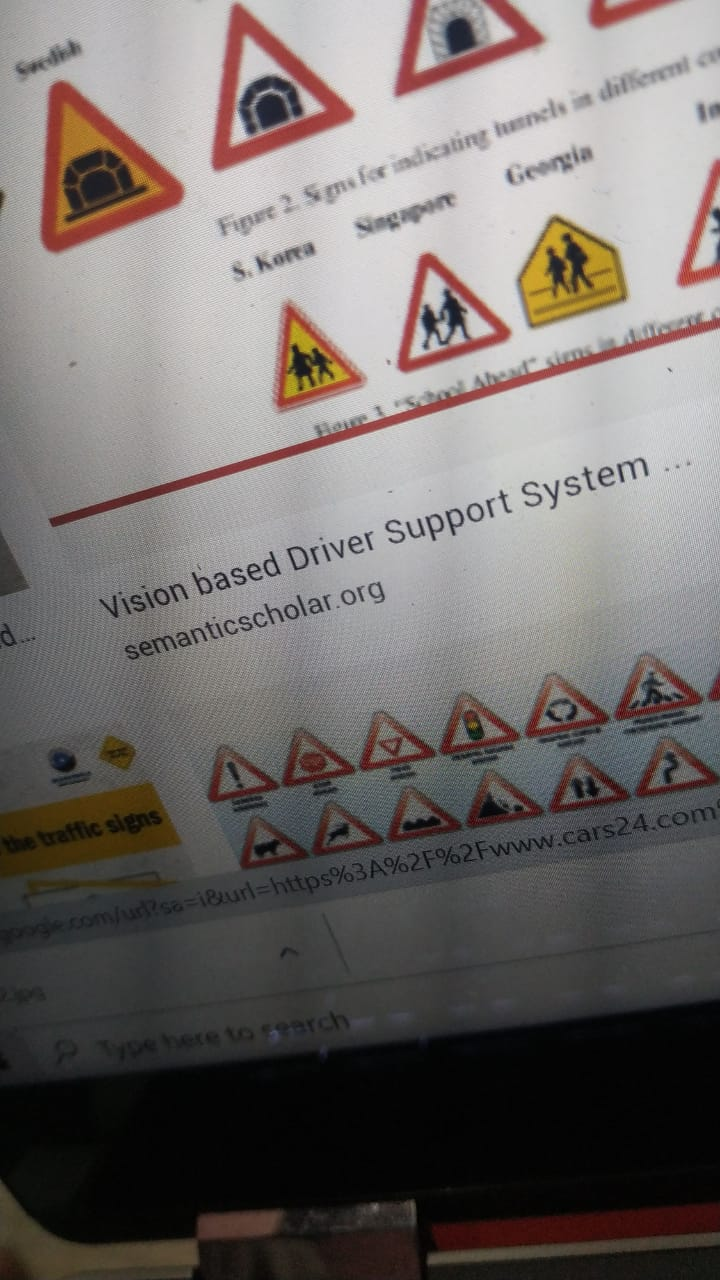SCHOOL ZONE: (240, 258, 381, 444), (378, 241, 521, 423)
